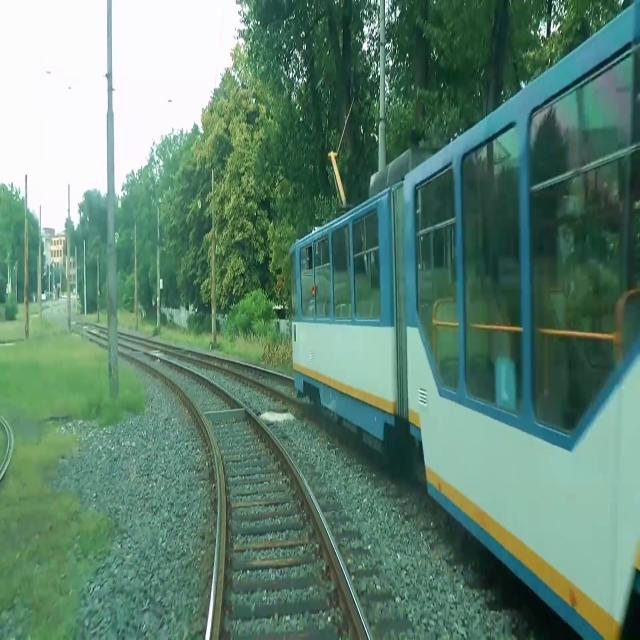rail-track: (118, 346, 366, 639), (175, 350, 293, 394)
